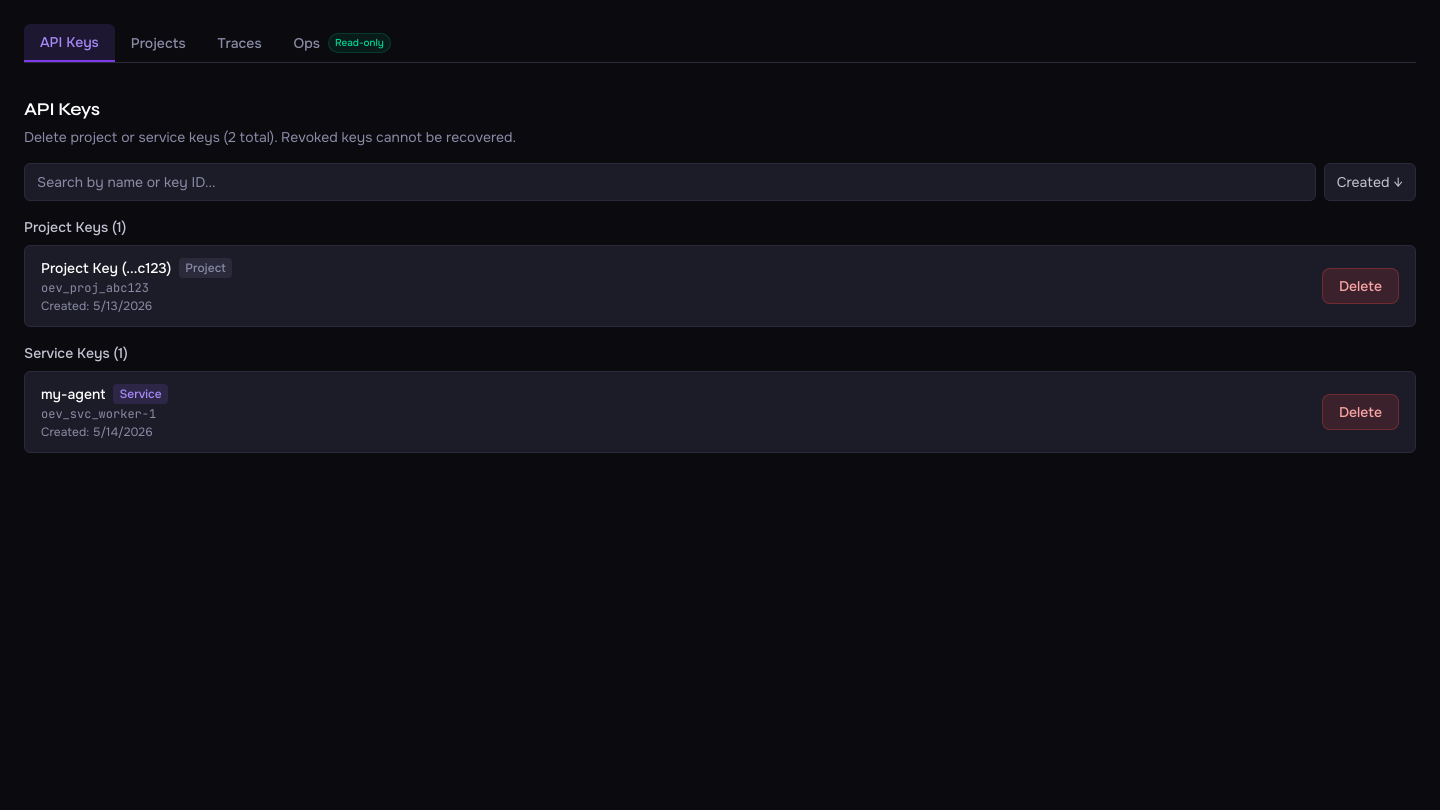
AdminPage › opens confirm dialog when deleting a key
Check: the text "oev_proj_abc123" is shown, box [41, 280, 149, 296]
Click the button "Delete" in the row of "Project Key (...c123)" at {"x": 1360, "y": 286}, box [1322, 268, 1399, 304]
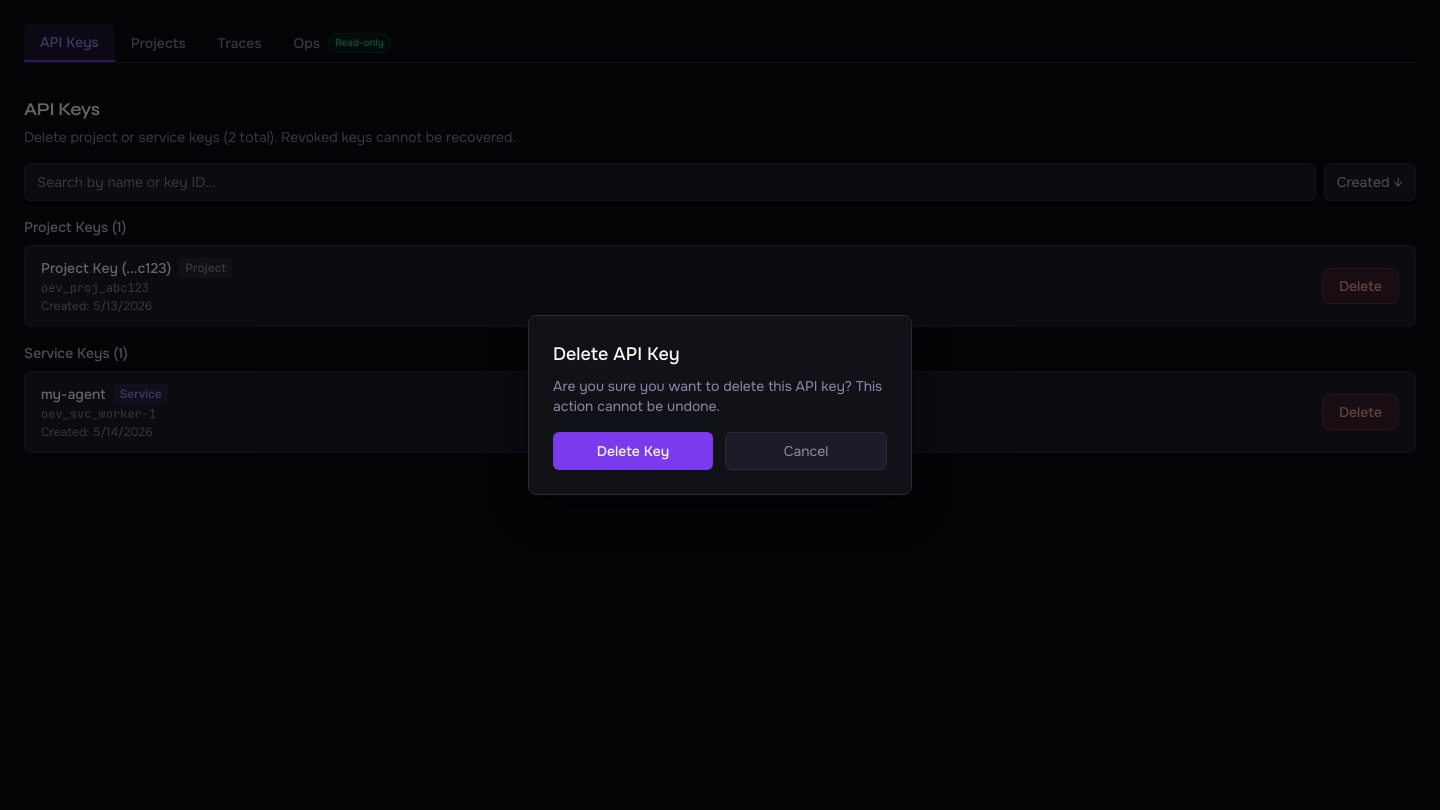
Check: the heading "Delete API Key" is shown, box [553, 343, 680, 365]
